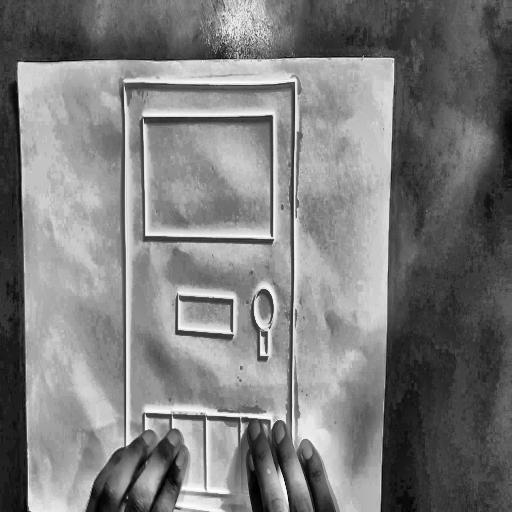bottom_left: (26, 502, 32, 512)
door: (117, 73, 300, 512)
top_left: (15, 57, 22, 70)
top_right: (391, 53, 398, 65)
